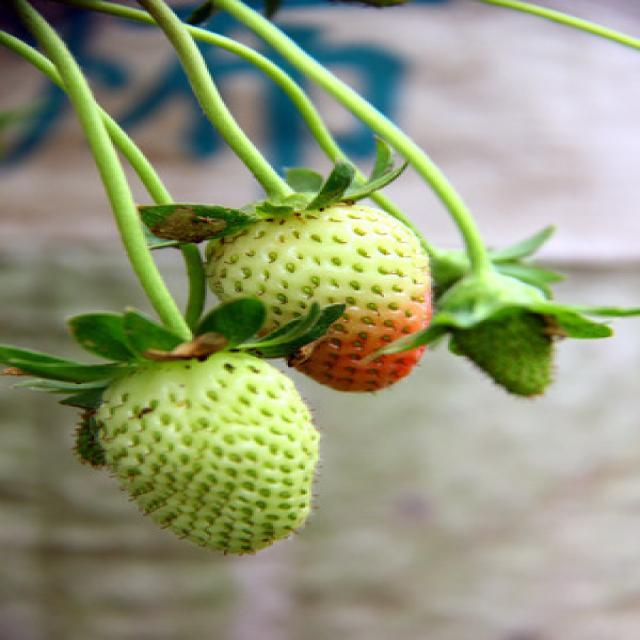unripe: (98, 352, 320, 554), (215, 200, 432, 390), (451, 272, 554, 399)
